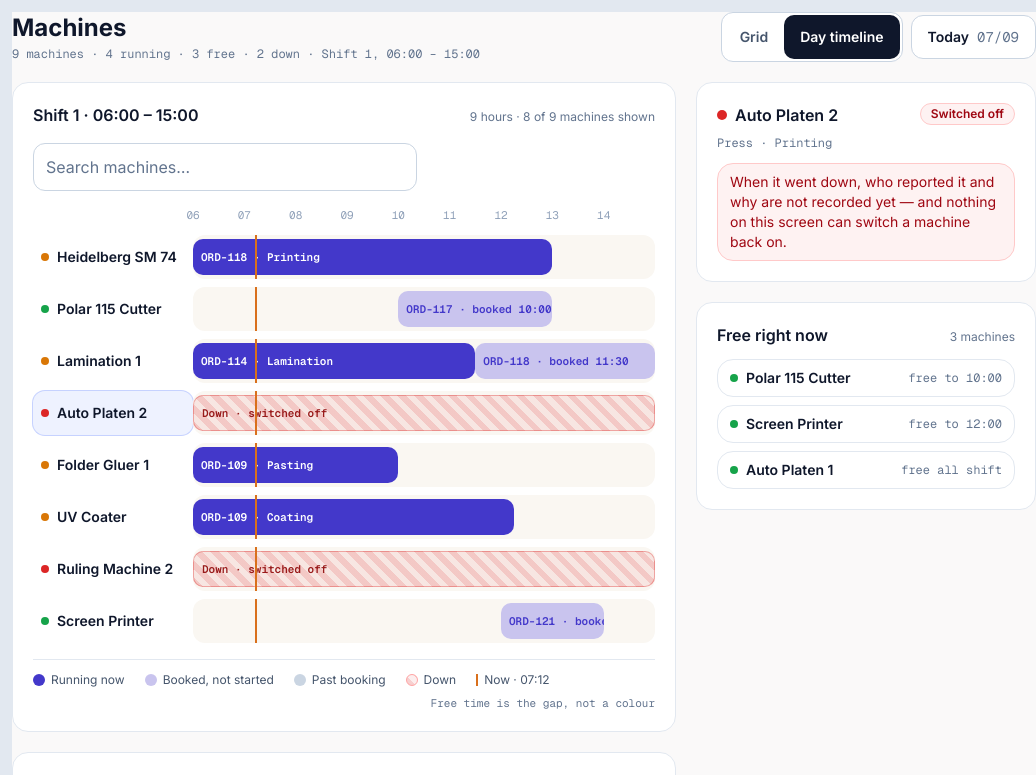
Test: the panel answers the next question › selecting a running machine shows its bookings and utilisation instead
This screenshot has width=1036, height=775.
Click the button "Lamination 1": point(113, 361) 33,339 -> 193,383
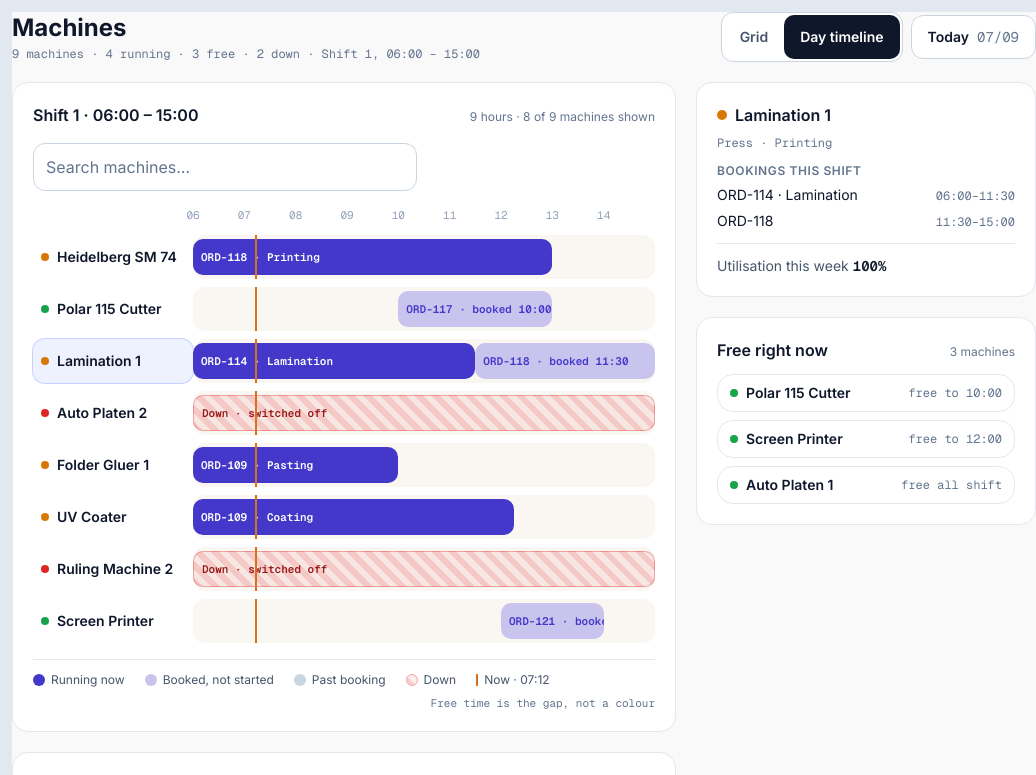
Expected: the heading "Bookings this shift" is shown, 717,163 -> 862,178
Expected: the text "06:00–11:30" is shown, 936,188 -> 1015,204
Expected: the text "11:30–15:00" is shown, 936,214 -> 1015,230
